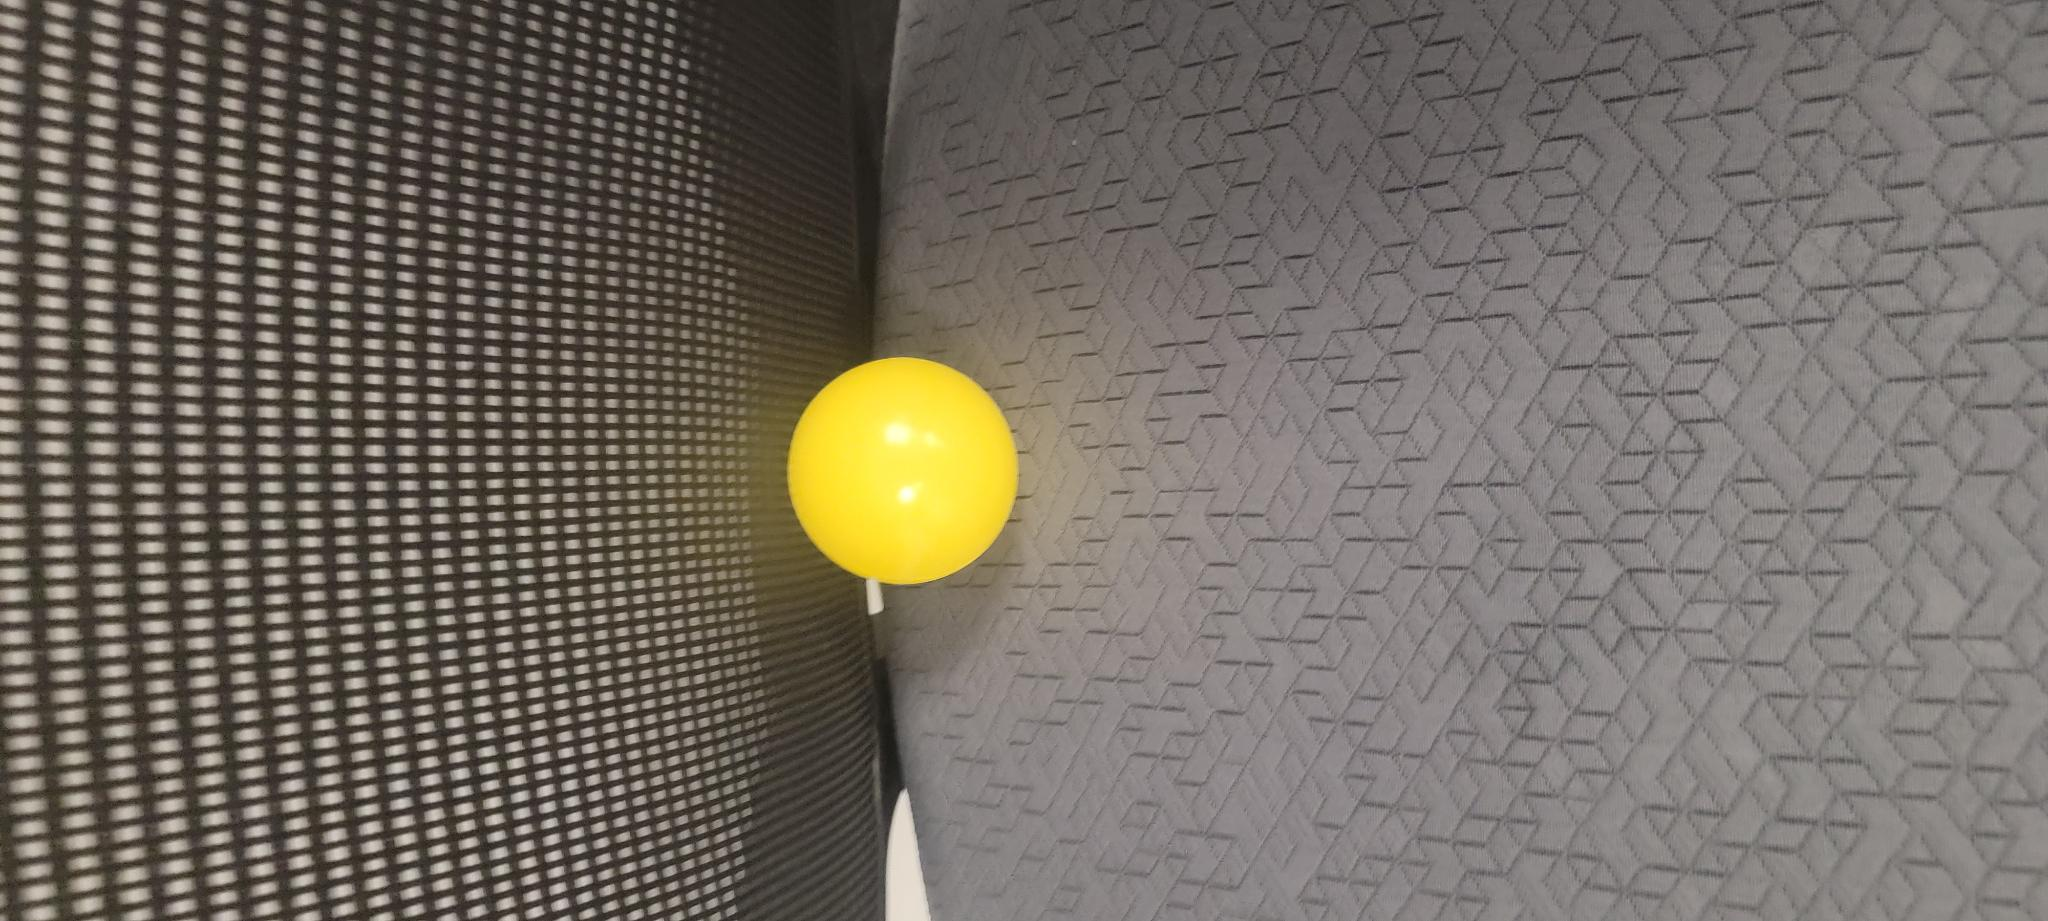Yellow-Ball: (334, 785, 564, 921)
